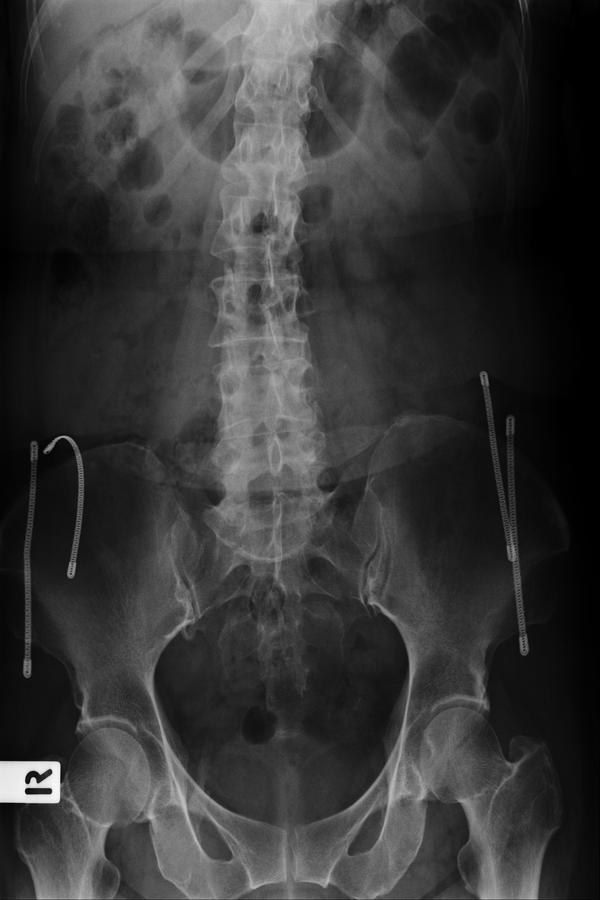lumbar scoliosis: (204, 8, 323, 488)
